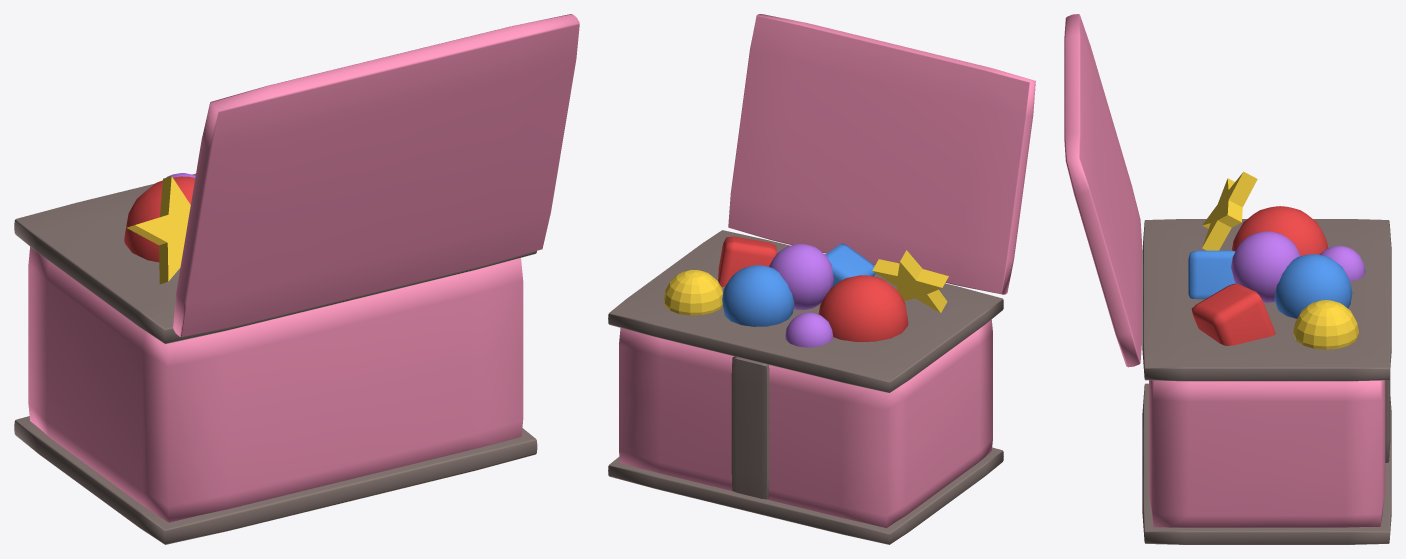
Rendered from MessyMemoryToyBox.obj.
3 renders of one model, left to right at view 1: azimuth 30°, elevation 25°; view 2: azimuth 150°, elevation 25°; view 3: azimuth 270°, elevation 25°, orthographic. The views are drawn at different scales.
Visible parts, largest first — view 1: Chest, Lid, Trim, PileYellow, PileRed; view 2: Lid, Chest, Trim, PileRed, PileBlue, PileYellow, PilePink; view 3: Chest, Trim, Lid, PileRed, PileBlue, PileYellow, PilePink.
Boxes of the visible parts, x1,y1,x2,y2 form: Chest: [28, 246, 523, 522]; Lid: [173, 14, 579, 337]; Trim: [14, 173, 537, 544]; PileYellow: [126, 176, 190, 284]; PileRed: [124, 176, 195, 262]; Lid: [728, 14, 1035, 294]; Chest: [619, 319, 992, 527]; Trim: [608, 230, 1003, 544]; PileRed: [718, 236, 908, 342]; PileBlue: [722, 243, 875, 326]; PileYellow: [664, 250, 948, 315]; PilePink: [769, 244, 833, 347]; Chest: [1149, 380, 1385, 527]; Trim: [1142, 219, 1391, 544]; Lid: [1064, 14, 1141, 367]; PileRed: [1191, 206, 1327, 345]; PileBlue: [1188, 250, 1352, 318]; PileYellow: [1202, 171, 1358, 349]; PilePink: [1231, 231, 1365, 302].
Bounding box in the file's own units: 5.4 × 6.53 × 4.99.
